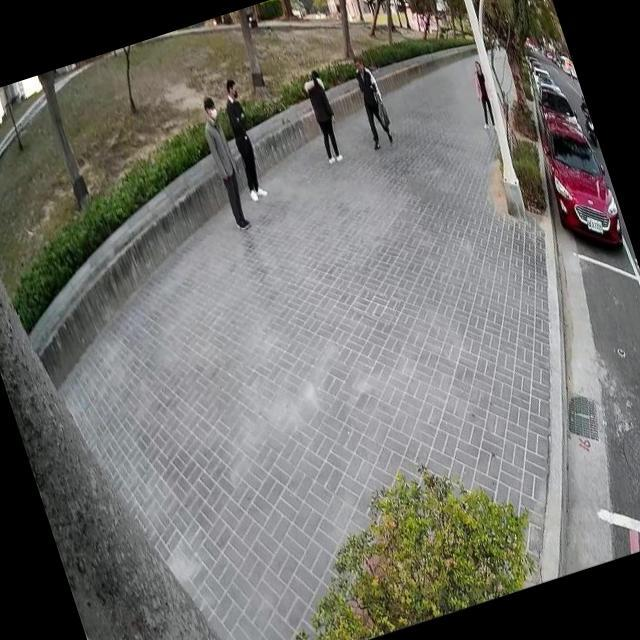person: (190, 92, 257, 234), (209, 71, 275, 205), (343, 49, 401, 156), (296, 62, 350, 168), (459, 56, 503, 138)
